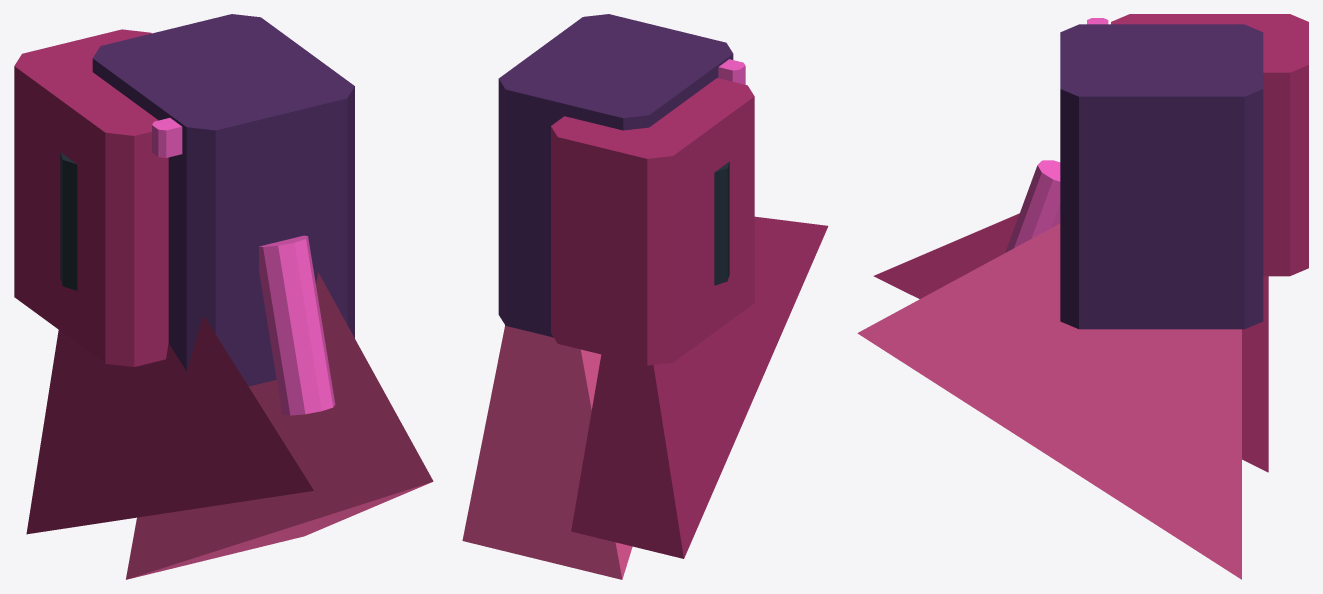
File: enemy_striker_forearm_r.obj
The picture shows the model from 3 angles, left to right: view 1: azimuth 30°, elevation 25°; view 2: azimuth 150°, elevation 25°; view 3: azimuth 270°, elevation 25°; orthographic projection. The views are drawn at different scales.
Bounding box in the file's own units: 0.5116 × 0.96 × 0.845.
